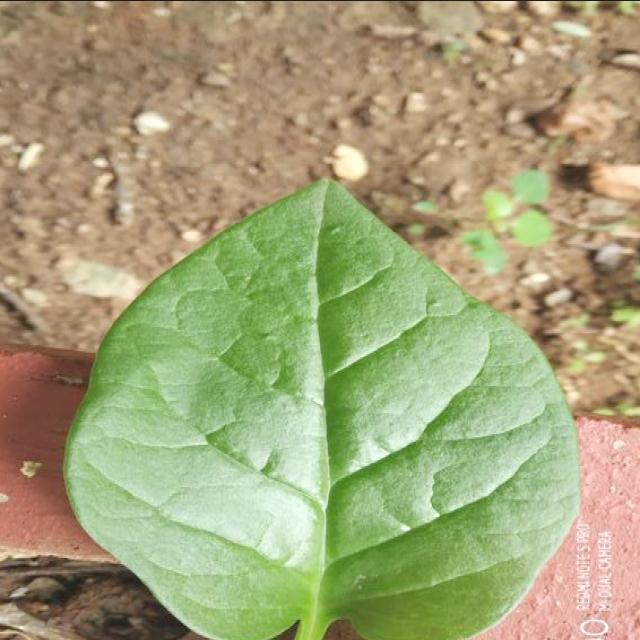leaf: (61, 176, 582, 639)
